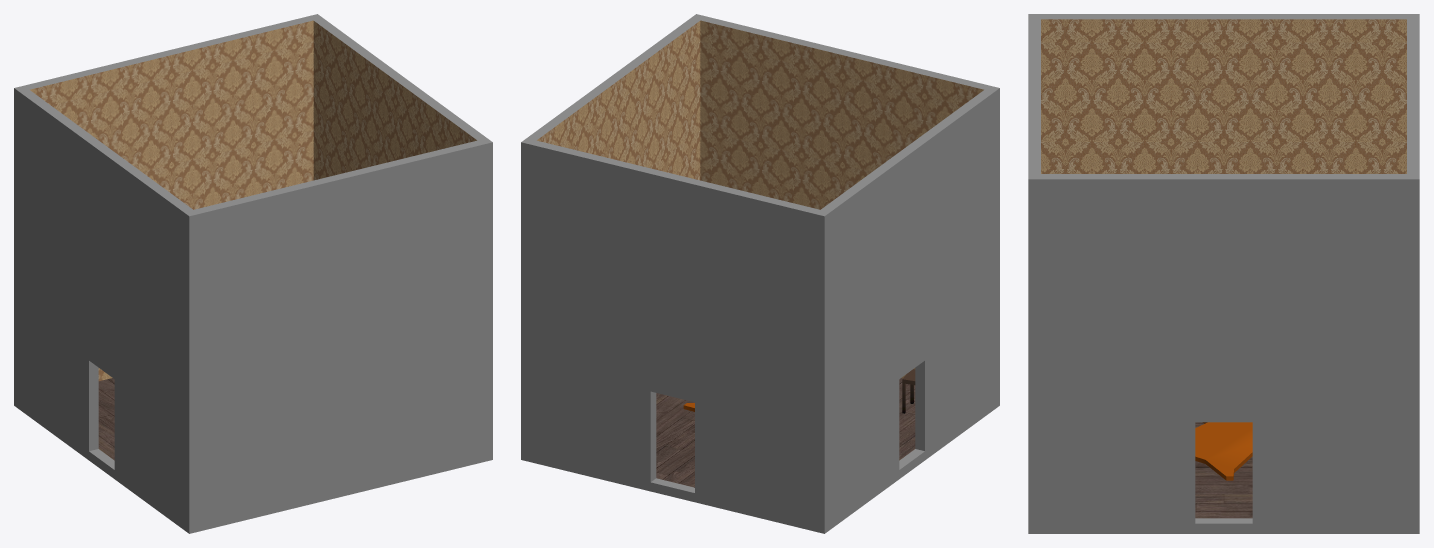
File: Game_Room.FBX
3 renders of one model, left to right at view 1: azimuth 30°, elevation 25°; view 2: azimuth 150°, elevation 25°; view 3: azimuth 270°, elevation 25°, orthographic. The views are drawn at different scales.
Visible parts, largest first — view 1: Game_Room; view 2: Game_Room; view 3: Game_Room.
Boxes of the visible parts, left/top/right/bottom form: Game_Room: left=14, top=14, right=492, bottom=533; Game_Room: left=521, top=14, right=999, bottom=533; Game_Room: left=1028, top=14, right=1419, bottom=533.
Size of the model in its own units: 500 by 500 by 500.
